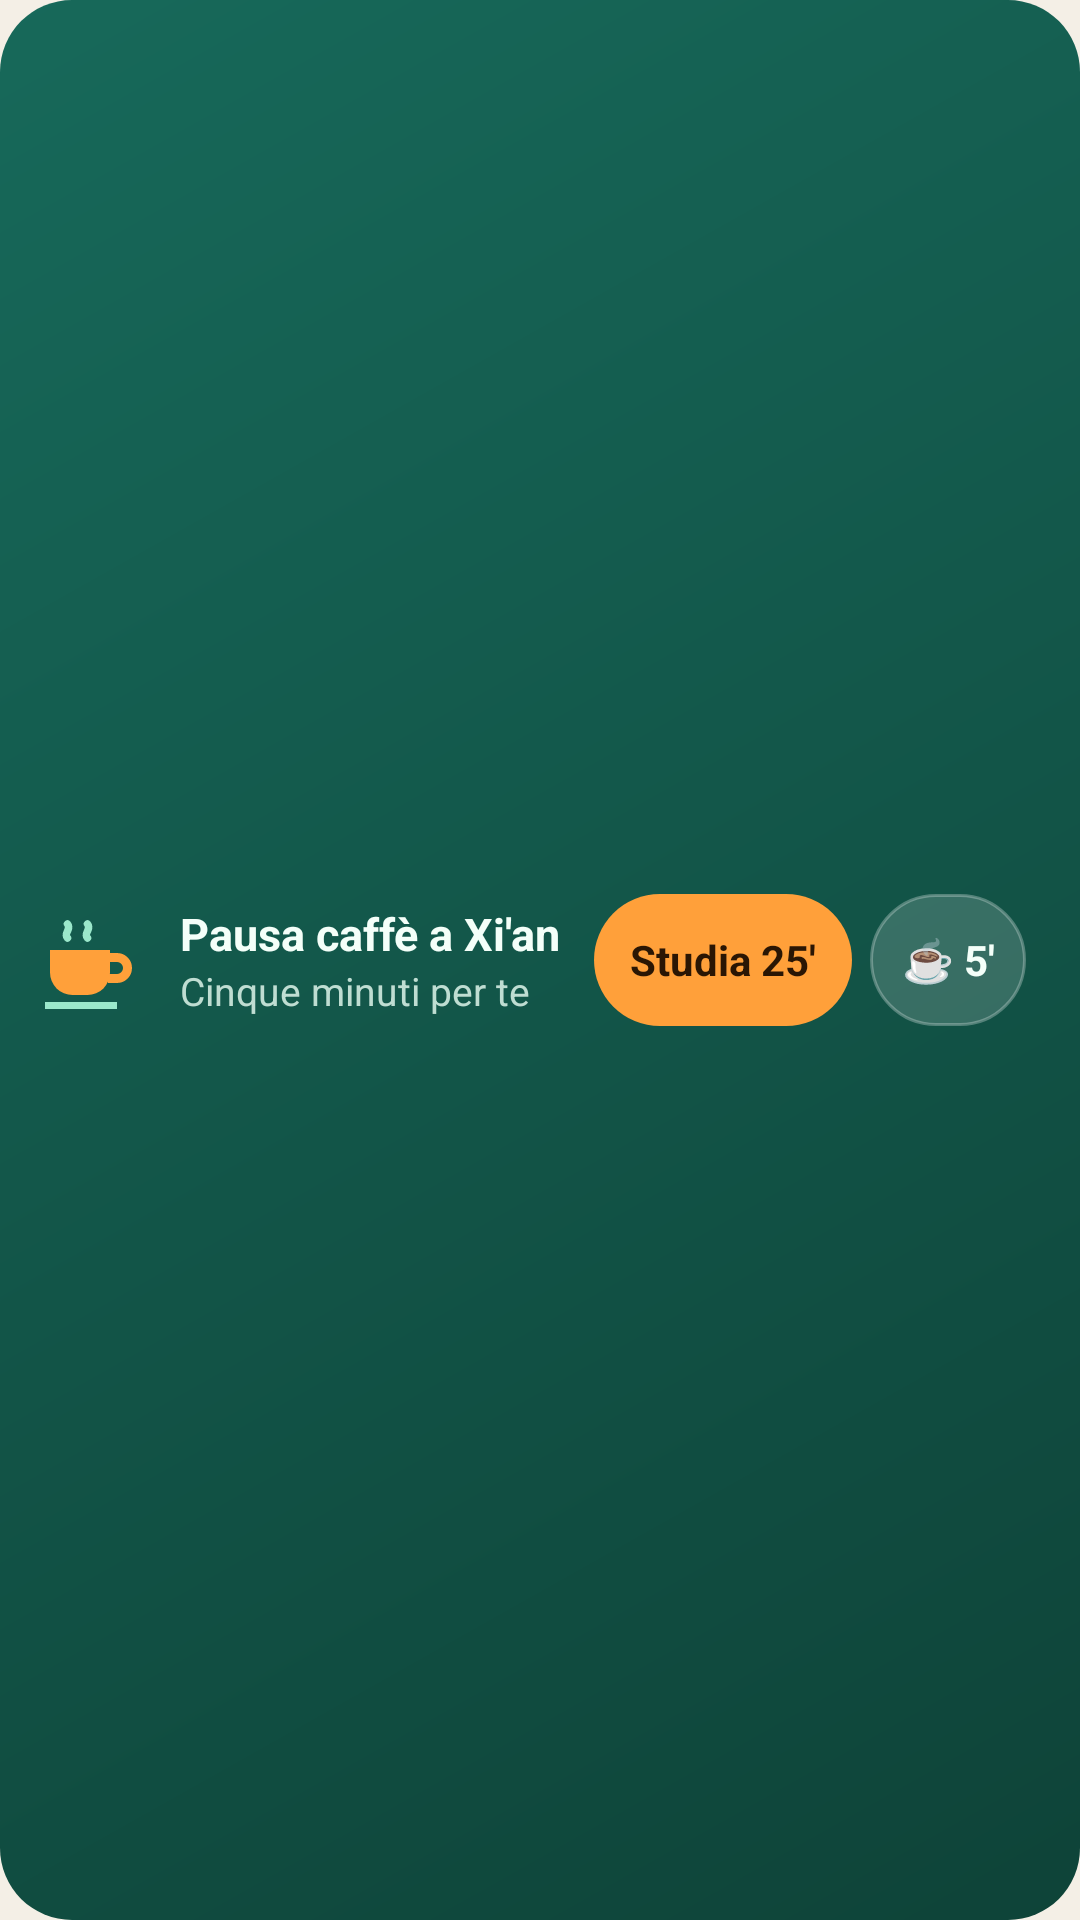

Point at icon controls on the screen. Image size 1080px×1920px, points as (x=x, y=y).
cup: (x=88, y=964)
